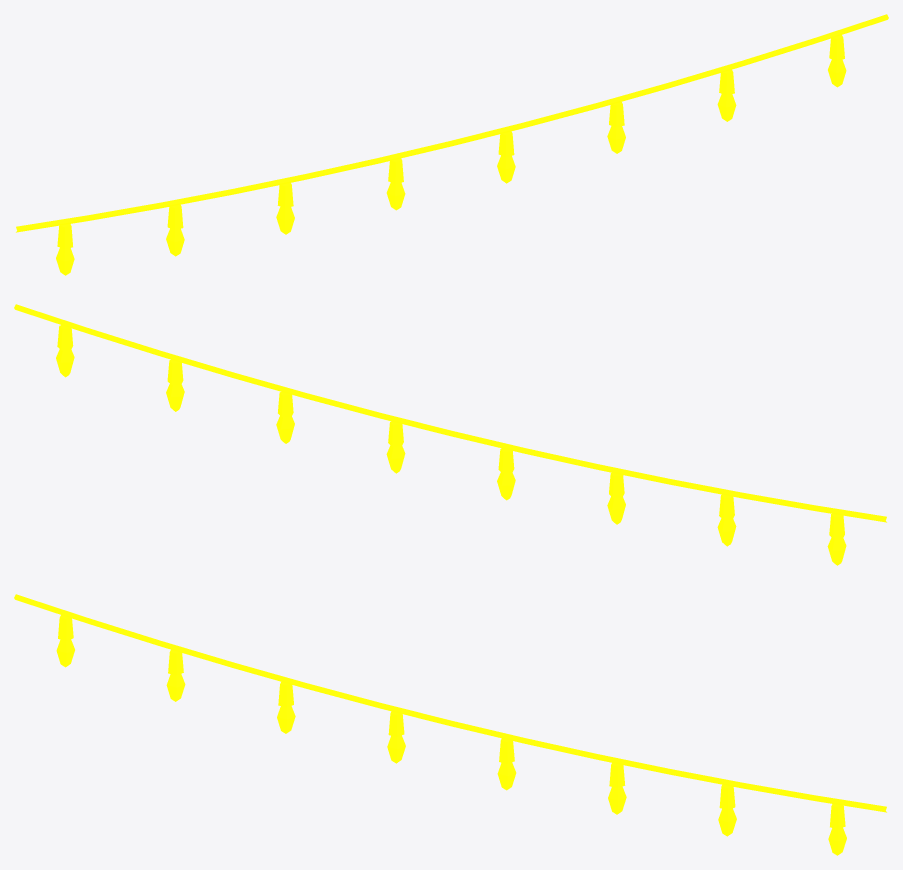
File: light-string-color-big-2m-christmas.glb
3 renders of one model, top to bottom at view 1: azimuth 30°, elevation 25°; view 2: azimuth 150°, elevation 25°; view 3: azimuth 330°, elevation 25°, orthographic.
Visible parts, largest first — view 1: light_string_color_big_2m_christmas; view 2: light_string_color_big_2m_christmas; view 3: light_string_color_big_2m_christmas.
Part boxes in pixels (<box>): light_string_color_big_2m_christmas: <box>16,14,888,275</box>; light_string_color_big_2m_christmas: <box>14,304,886,565</box>; light_string_color_big_2m_christmas: <box>14,594,886,855</box>.
Bounding box in the file's own units: 2 × 0.168 × 0.0357.
2 materials, 2 textured.
